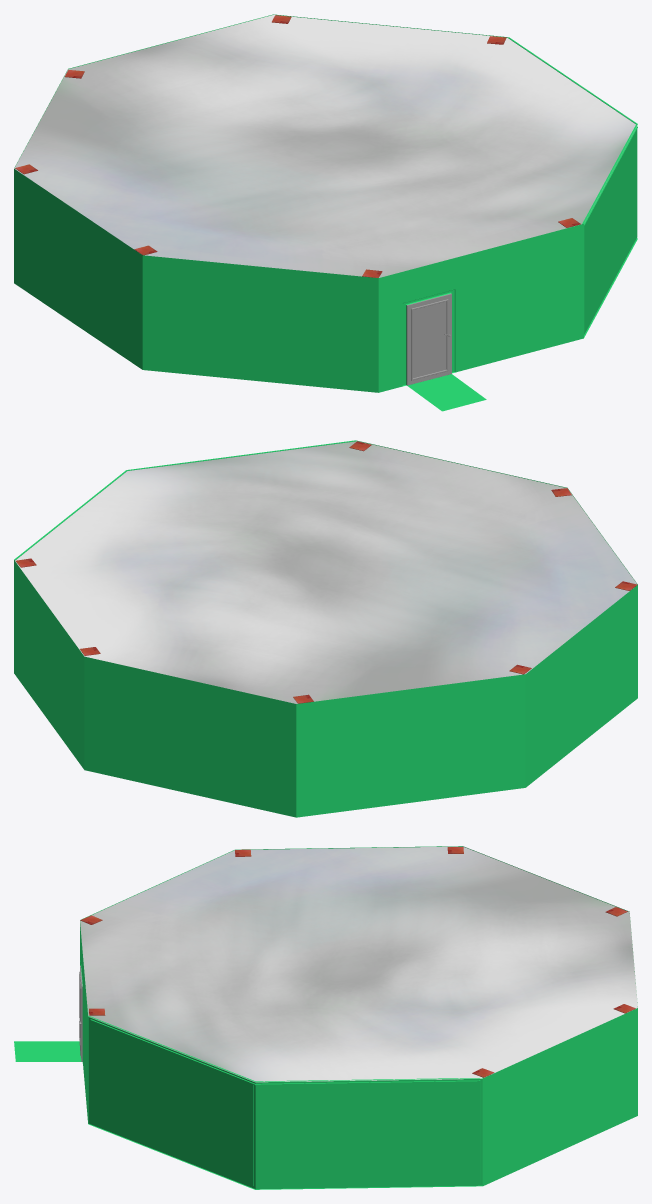
File: Room_VERTEX_Color.fbx
The picture shows the model from 3 angles, top to bottom: view 1: azimuth 30°, elevation 25°; view 2: azimuth 150°, elevation 25°; view 3: azimuth 270°, elevation 25°; orthographic projection. The views are drawn at different scales.
Parts seen in each view (by area): view 1: Roof, Walls, Glas Windows, Door, Exterior Platform, AluminioWindows, Door Frame; view 2: Roof, Walls, AluminioWindows; view 3: Roof, Glas Windows, Walls, AluminioWindows, Exterior Platform.
Boxes of the visible parts, bbox=[...] form: Roof: bbox=[14, 15, 637, 277]; Walls: bbox=[14, 14, 583, 392]; Glas Windows: bbox=[584, 130, 636, 332]; Door: bbox=[406, 293, 451, 385]; Exterior Platform: bbox=[407, 374, 486, 411]; AluminioWindows: bbox=[507, 37, 637, 337]; Door Frame: bbox=[402, 289, 455, 386]; Roof: bbox=[15, 441, 637, 703]; Walls: bbox=[14, 440, 637, 817]; AluminioWindows: bbox=[14, 440, 356, 560]; Roof: bbox=[80, 846, 637, 1082]; Glas Windows: bbox=[91, 1021, 479, 1186]; Walls: bbox=[80, 846, 637, 1185]; AluminioWindows: bbox=[88, 1016, 482, 1189]; Exterior Platform: bbox=[14, 1041, 81, 1061].
Bounding box in the file's own units: 14.06 × 3 × 15.72.
10 materials, 8 textured.
